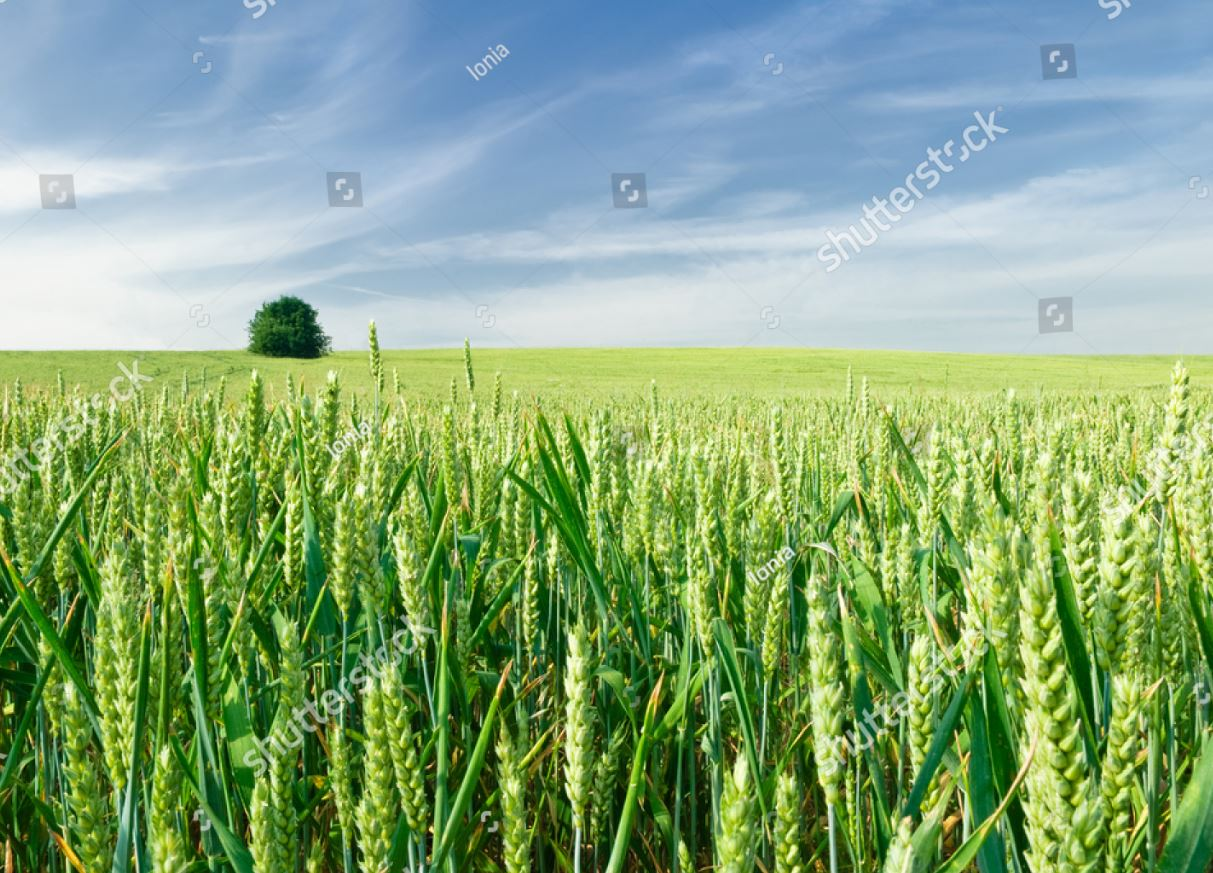Wheat: (186, 402, 1213, 838)
